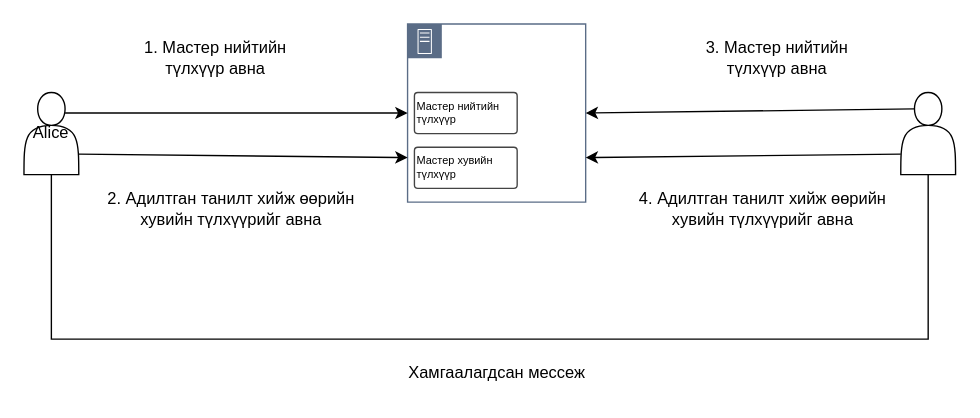
Some shapes in this 980 by 418 pixel diagram are drawn without their labels. Here are the shapes that lost their labels. From the top down, the box of each, then its label:
(406, 23, 586, 202): Priviate Key Generator
(899, 91, 956, 175): Bob
